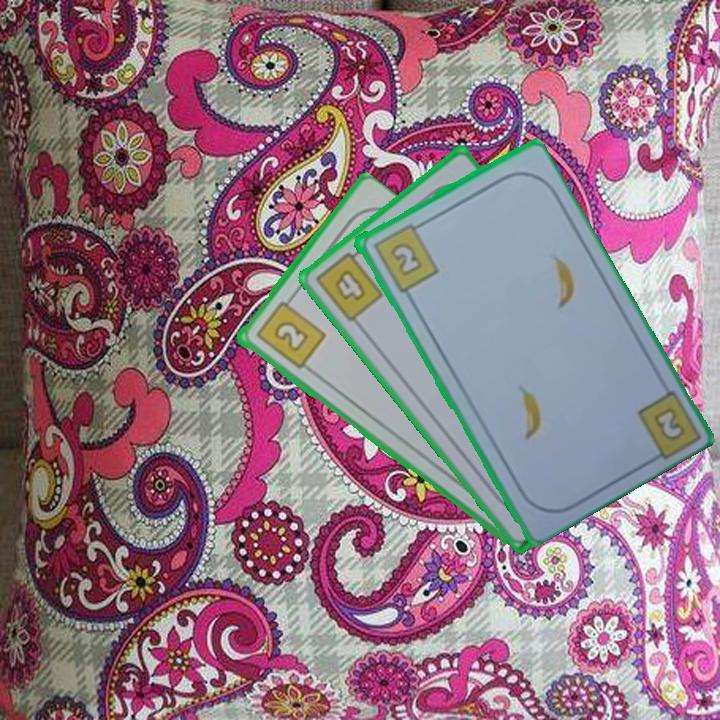2b: (252, 292, 328, 372), (368, 218, 441, 295), (653, 407, 684, 441)
4b: (311, 243, 386, 325)
